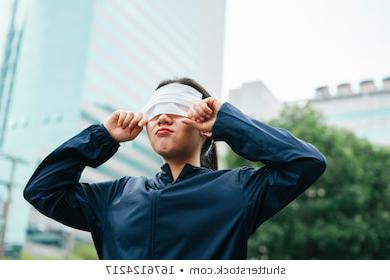mask_weared_incorrect: (144, 89, 202, 152)
